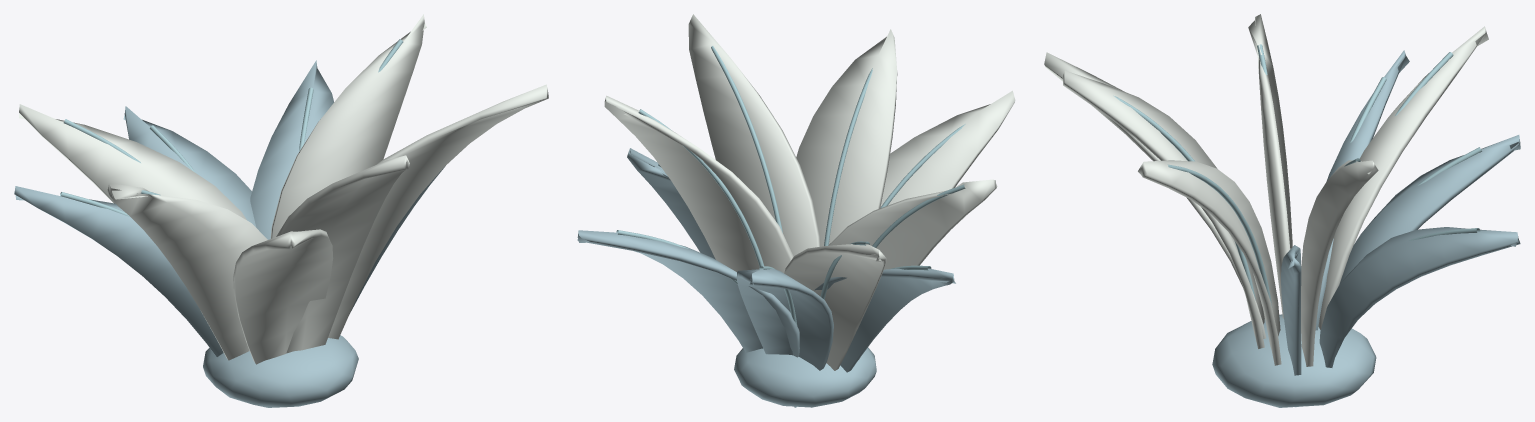
Rendered from bio_mist_leaf_11_far.glb.
3 renders of one model, left to right at view 1: azimuth 30°, elevation 25°; view 2: azimuth 150°, elevation 25°; view 3: azimuth 270°, elevation 25°, orthographic. The views are drawn at different scales.
Visible parts, largest first — view 1: Cupped condensate leaf.004, Cupped condensate leaf.008, Cupped condensate leaf.007, Cupped condensate leaf.002, Cupped condensate leaf.005, Cupped condensate leaf.001, Root rosette, Cupped condensate leaf.009, Cupped condensate leaf.003, Cupped condensate leaf.006; view 2: Cupped condensate leaf.002, Cupped condensate leaf.005, Cupped condensate leaf.008, Cupped condensate leaf.007, Cupped condensate leaf.004, Cupped condensate leaf.003, Cupped condensate leaf.001, Root rosette, Cupped condensate leaf.006, Cupped condensate leaf.009, Cupped condensate leaf, Central leaf rib.005 (+4 smaller); view 3: Root rosette, Cupped condensate leaf.003, Cupped condensate leaf.001, Cupped condensate leaf.005, Cupped condensate leaf.002, Cupped condensate leaf.006, Cupped condensate leaf.008, Cupped condensate leaf.004, Cupped condensate leaf.009, Cupped condensate leaf, Cupped condensate leaf.007, Central leaf rib.005 (+1 smaller).
Part boxes in pixels (x1,y1,x2,y2): Cupped condensate leaf.004: (107,183,267,360); Cupped condensate leaf.008: (270,14,426,238); Cupped condensate leaf.007: (233,229,333,364); Cupped condensate leaf.002: (276,155,409,353); Cupped condensate leaf.005: (328,84,548,339); Cupped condensate leaf.001: (19,104,246,219); Root rosette: (203,335,358,407); Cupped condensate leaf.009: (14,186,223,356); Cupped condensate leaf.003: (250,60,333,239); Cupped condensate leaf.006: (123,106,256,227); Cupped condensate leaf.002: (796,29,897,246); Cupped condensate leaf.005: (688,14,820,256); Cupped condensate leaf.008: (604,95,793,273); Cupped condensate leaf.007: (880,90,1015,207); Cupped condensate leaf.004: (828,179,997,359); Cupped condensate leaf.003: (577,230,799,357); Cupped condensate leaf.001: (784,244,886,370); Root rosette: (734,347,876,407); Cupped condensate leaf.006: (736,268,833,407); Cupped condensate leaf.009: (814,268,955,372); Cupped condensate leaf: (627,148,715,259); Central leaf rib.005: (711,46,782,232); Root rosette: (1212,314,1376,407); Cupped condensate leaf.003: (1319,227,1520,367); Cupped condensate leaf.001: (1318,26,1488,329); Cupped condensate leaf.005: (1138,160,1281,365); Cupped condensate leaf.002: (1063,70,1264,348); Cupped condensate leaf.006: (1339,135,1520,284); Cupped condensate leaf.008: (1301,160,1378,406); Cupped condensate leaf.004: (1248,14,1292,318); Cupped condensate leaf.009: (1315,50,1409,330); Cupped condensate leaf: (1281,245,1301,407); Cupped condensate leaf.007: (1044,52,1265,338); Central leaf rib.005: (1167,164,1272,307).
Size of the model in its own units: 1.83 by 1.34 by 1.74.
